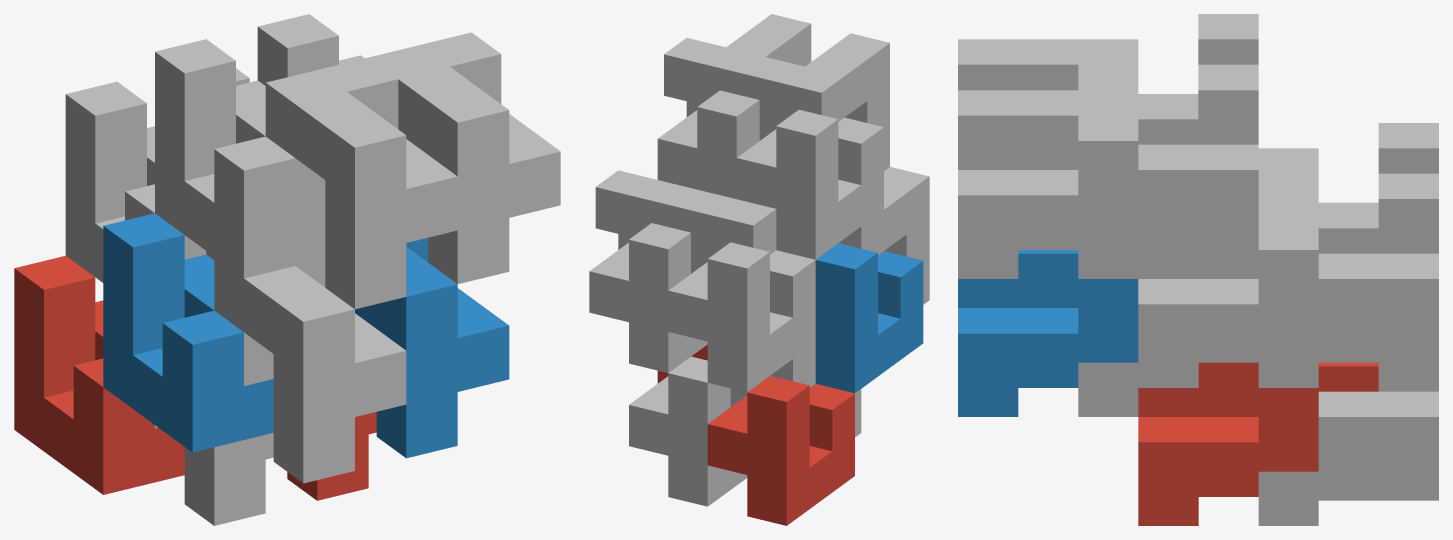
File: tiling.obj
3 renders of one model, left to right at view 1: azimuth 30°, elevation 25°; view 2: azimuth 150°, elevation 25°; view 3: azimuth 270°, elevation 25°, orthographic. The views are drawn at different scales.
Visible parts, largest first — view 1: copy_2_domain_4, copy_1_domain_2, copy_1_domain_4, copy_2_domain_2, copy_2_domain_8, copy_1_domain_1, copy_2_domain_6, copy_1_domain_3, copy_2_domain_1, copy_1_domain_8, copy_2_domain_5; view 2: copy_1_domain_3, copy_1_domain_1, copy_1_domain_4, copy_1_domain_2, copy_1_domain_7, copy_2_domain_4, copy_1_domain_5, copy_1_domain_8, copy_2_domain_8, copy_2_domain_2, copy_2_domain_3, copy_2_domain_7 (+1 smaller); view 3: copy_2_domain_8, copy_2_domain_7, copy_2_domain_6, copy_2_domain_5, copy_1_domain_7, copy_1_domain_5, copy_1_domain_8, copy_2_domain_4, copy_1_domain_3, copy_1_domain_4, copy_1_domain_6, copy_2_domain_3 (+1 smaller).
Boxes of the visible parts, <box> form: copy_2_domain_4: <box>265,57,457,309</box>; copy_1_domain_2: <box>103,213,273,452</box>; copy_1_domain_4: <box>155,39,325,278</box>; copy_2_domain_2: <box>214,257,406,483</box>; copy_2_domain_8: <box>369,32,560,283</box>; copy_1_domain_1: <box>14,255,184,494</box>; copy_2_domain_6: <box>355,238,509,458</box>; copy_1_domain_3: <box>65,81,206,282</box>; copy_2_domain_1: <box>155,425,273,525</box>; copy_1_domain_8: <box>257,14,364,85</box>; copy_2_domain_5: <box>287,412,376,500</box>; copy_1_domain_3: <box>668,242,815,392</box>; copy_1_domain_1: <box>707,376,854,525</box>; copy_1_domain_4: <box>736,109,883,259</box>; copy_1_domain_2: <box>815,243,923,393</box>; copy_1_domain_7: <box>589,223,710,372</box>; copy_2_domain_4: <box>742,33,889,170</box>; copy_1_domain_5: <box>629,356,747,506</box>; copy_1_domain_8: <box>657,90,778,198</box>; copy_2_domain_8: <box>664,14,811,116</box>; copy_2_domain_2: <box>839,167,929,304</box>; copy_2_domain_3: <box>674,189,776,256</box>; copy_2_domain_7: <box>595,170,696,249</box>; copy_2_domain_8: <box>958,90,1138,278</box>; copy_2_domain_7: <box>1138,199,1318,387</box>; copy_2_domain_6: <box>958,250,1138,416</box>; copy_2_domain_5: <box>1138,362,1318,525</box>; copy_1_domain_7: <box>1258,173,1438,387</box>; copy_1_domain_5: <box>1258,362,1438,525</box>; copy_1_domain_8: <box>1078,64,1258,278</box>; copy_2_domain_4: <box>958,39,1138,90</box>; copy_1_domain_3: <box>1318,123,1438,253</box>; copy_1_domain_4: <box>1138,14,1258,144</box>; copy_1_domain_6: <box>1078,359,1258,416</box>; copy_2_domain_3: <box>1258,148,1318,198</box>.
Bounding box in the file's own units: 6 × 8 × 8.
